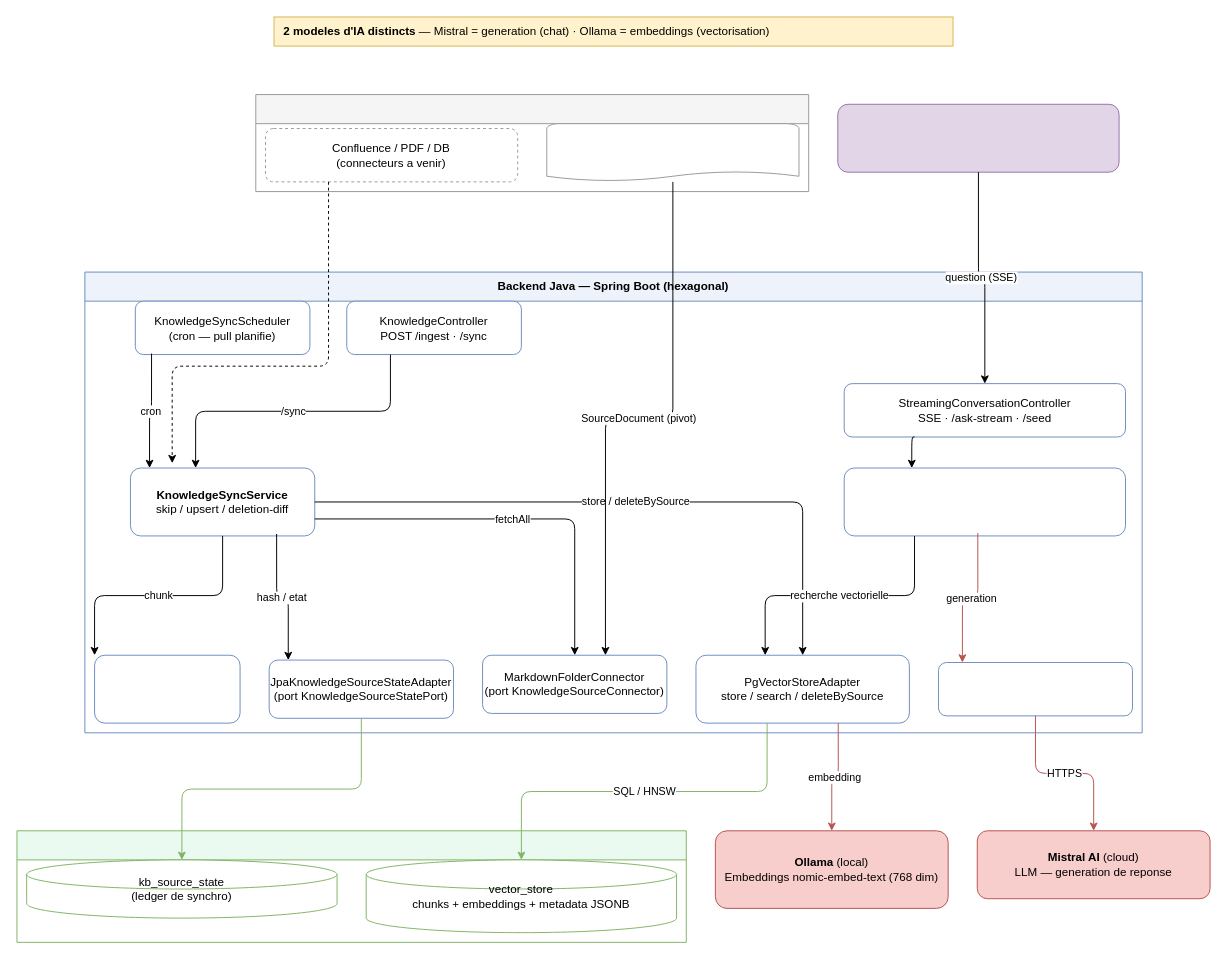
Image size: 1227x959. Some labels were removed from this diagram. The shapes that lost their labels are listed below. From the top down, each one's box as (x1, y1, x2, y2) in pixels, then its label:
(255, 94, 809, 192): Sources KB
(546, 123, 799, 182): knowledge-base/*.md front-matter YAML (domain:)
(837, 103, 1119, 172): Frontend React + Voice Agent (Gradium STT/TTS, WebSocket)
(843, 467, 1125, 536): ConversationOrchestrator (pipeline RAG)
(94, 654, 240, 723): TextChunker (decoupage)
(938, 662, 1132, 716): MistralLlmAdapter
(16, 830, 686, 942): PostgreSQL + pgvector (une seule base)
